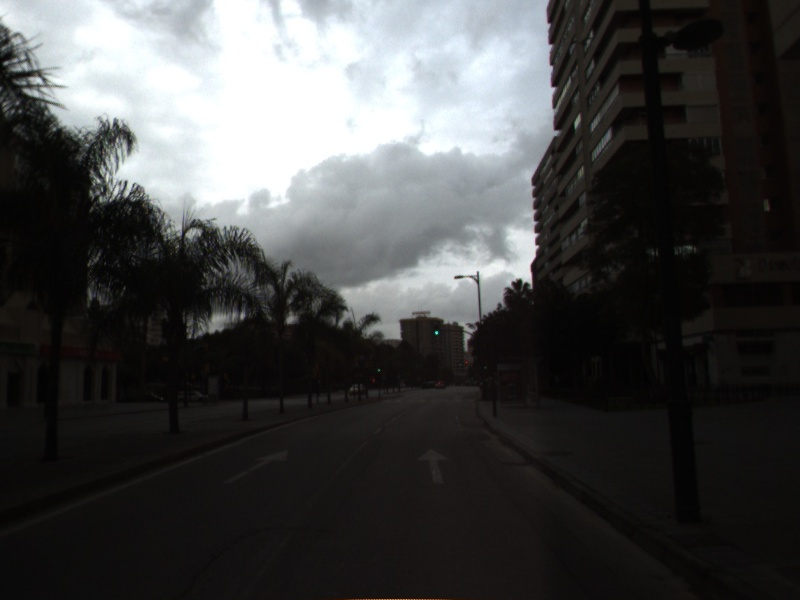STRAIGHT: (220, 448, 290, 487), (414, 446, 452, 486)
